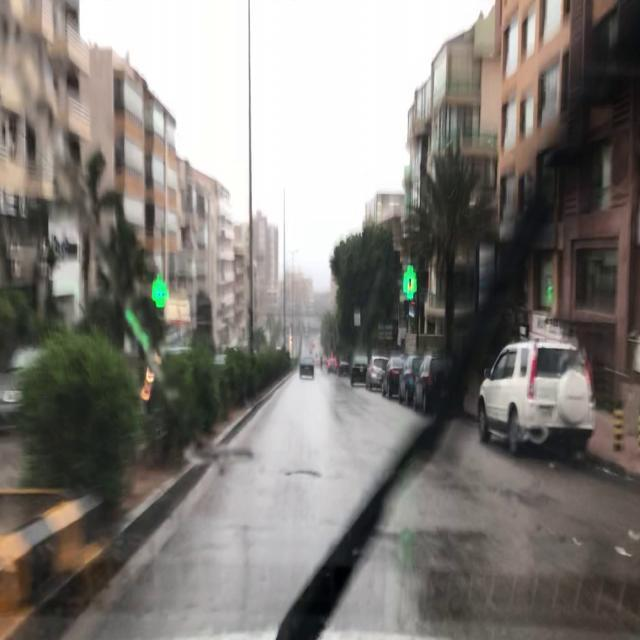pothole: (285, 469, 324, 480)
